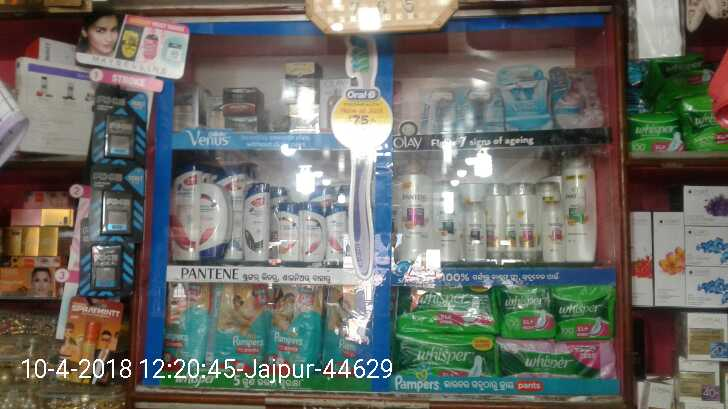venus: (501, 68, 554, 129), (554, 64, 602, 129), (461, 81, 500, 131), (420, 87, 460, 131)
